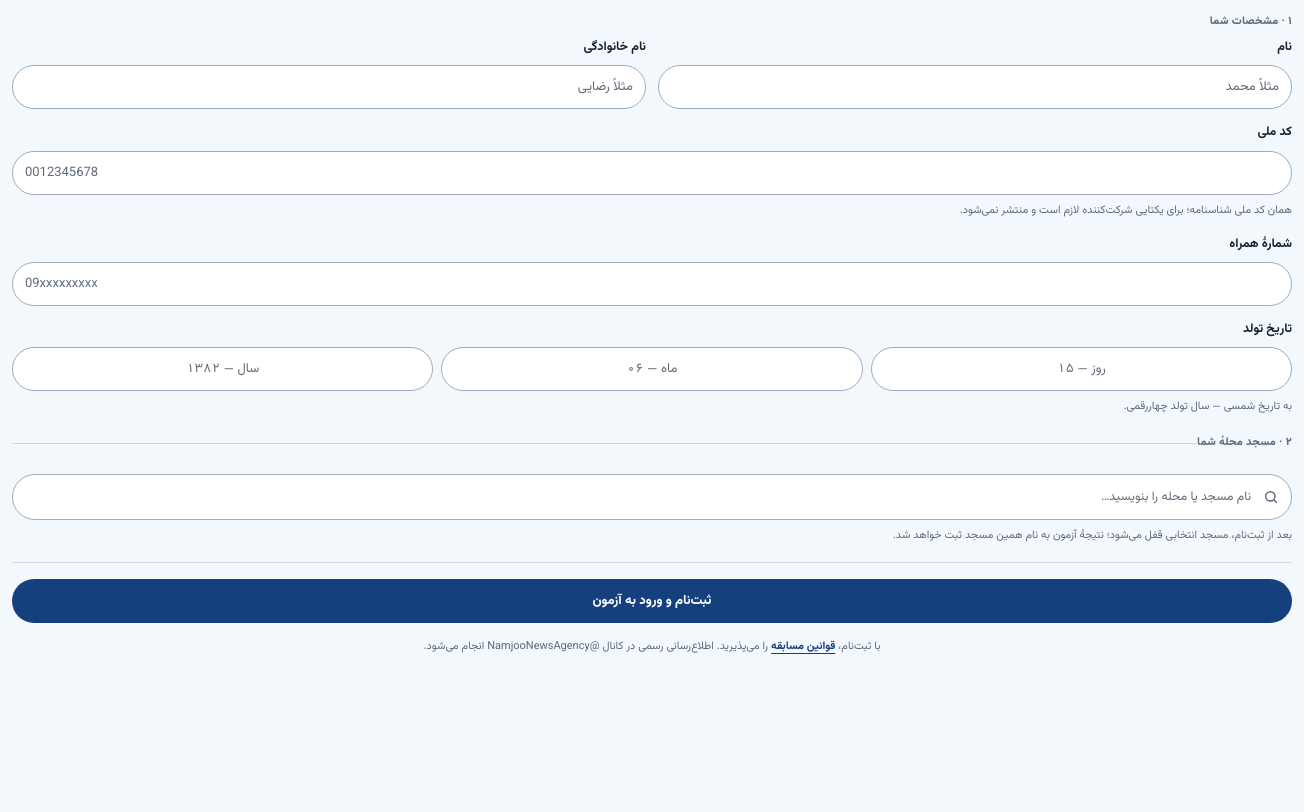
Test: ورودِ بازگشتی › شمارهٔ آشنا ⇒ فرم پر می‌شود و دکمه به «ادامهٔ آزمون» تبدیل می‌شود
In the field labelled "شمارهٔ همراه": (652, 284) [12,262,1292,306], type "09121234567"
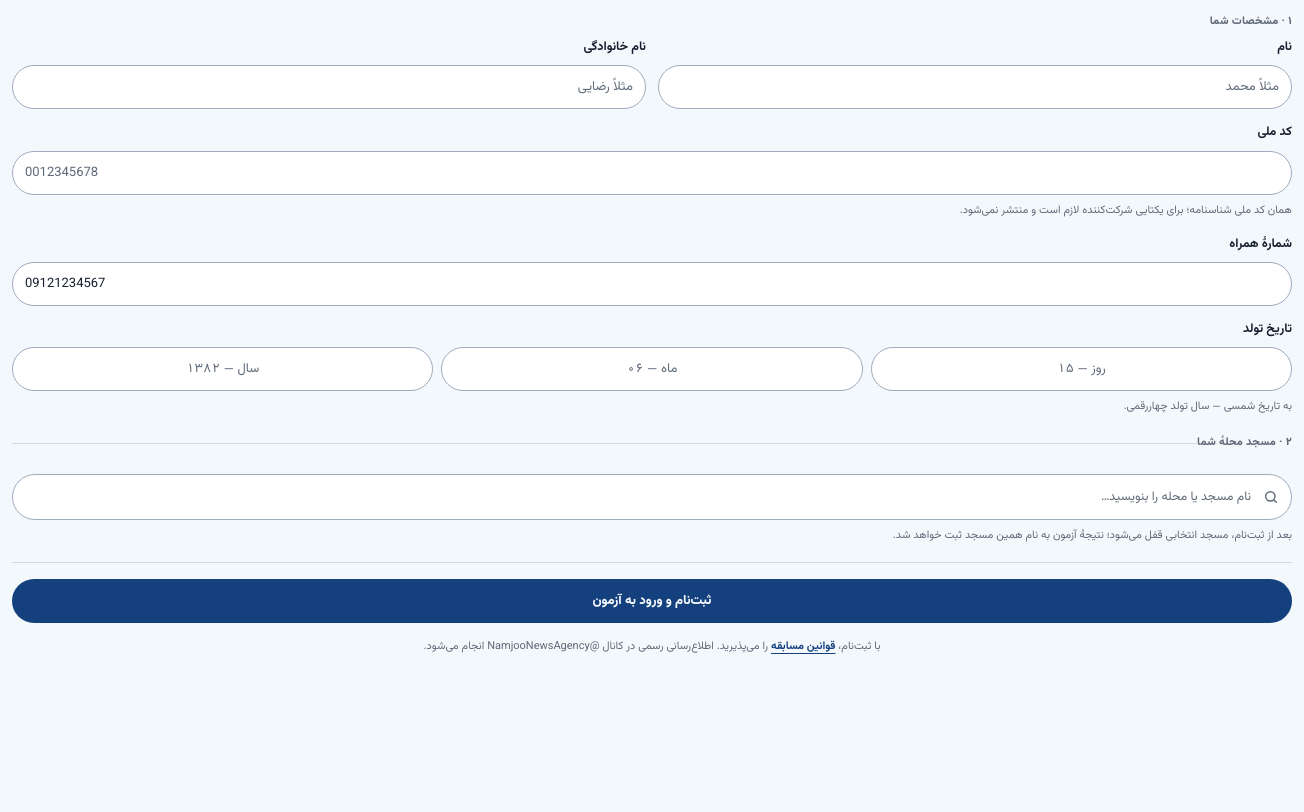
In the field labelled "کد ملی": (652, 173) [12,151,1292,195], type "0013542419"
Wait 800 ms
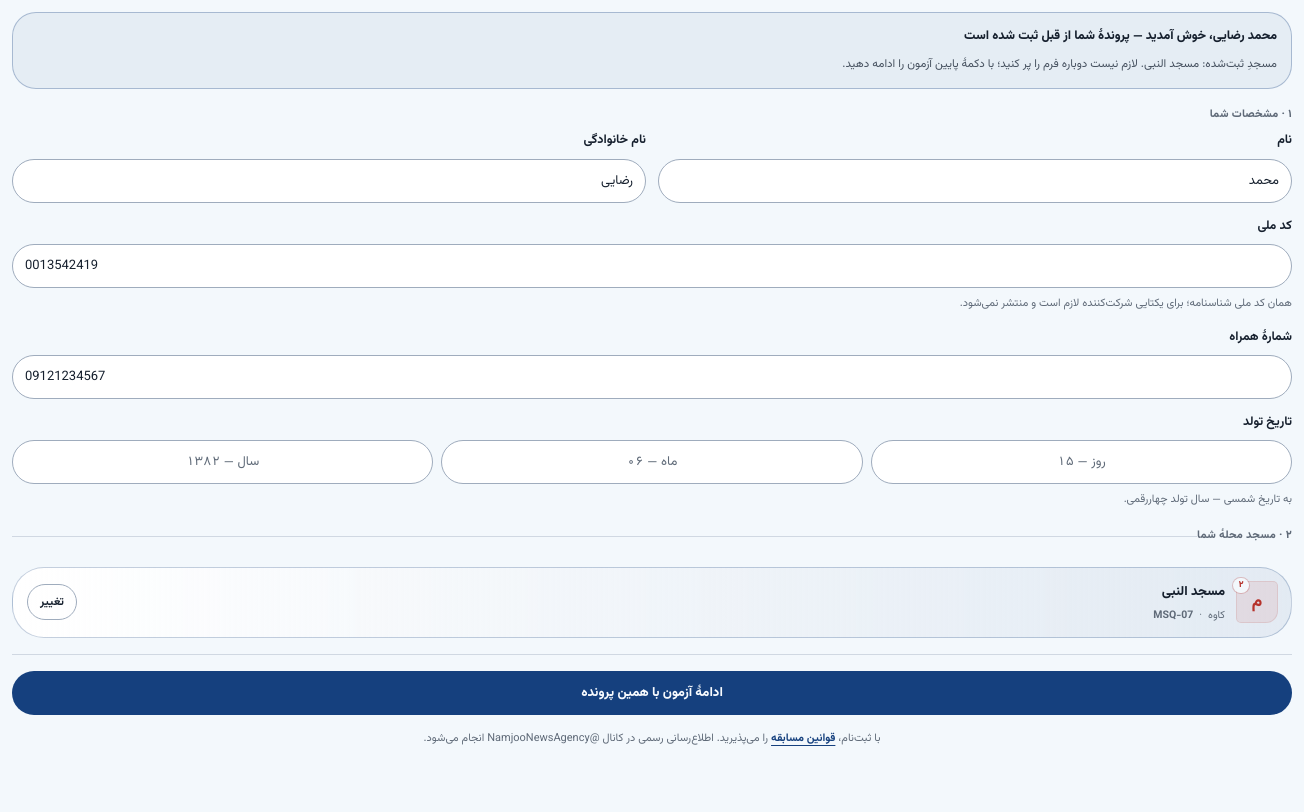
Expected: the text "محمد رضایی، خوش آمدید — پروندهٔ شما از قبل ثبت شده است" is shown, [964,26,1277,46]
Expected: the button "ادامهٔ آزمون با همین پرونده" is shown, [12,671,1292,715]
Expected: the field labelled "نام" holds "محمد", [658,159,1292,203]
